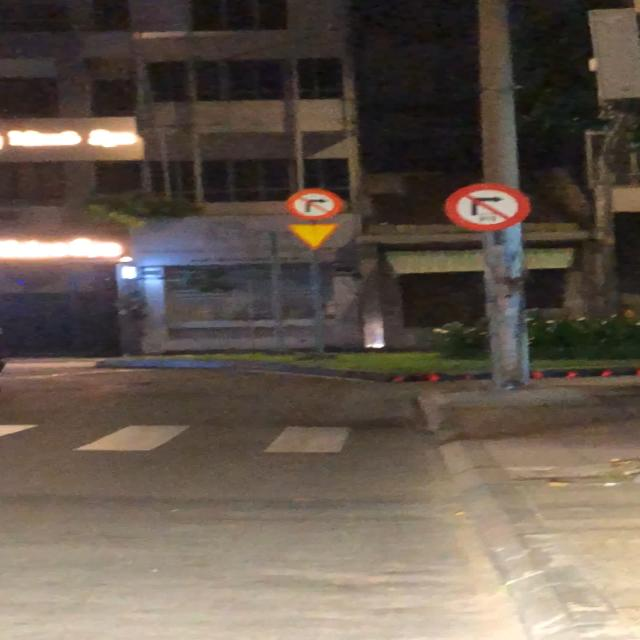Bien bao cam re phai: (280, 189, 342, 220)
Bien bao cam xe o to re phai: (443, 181, 536, 233)
Bien bao giao nhau voi duong uu tien: (281, 222, 344, 254)
